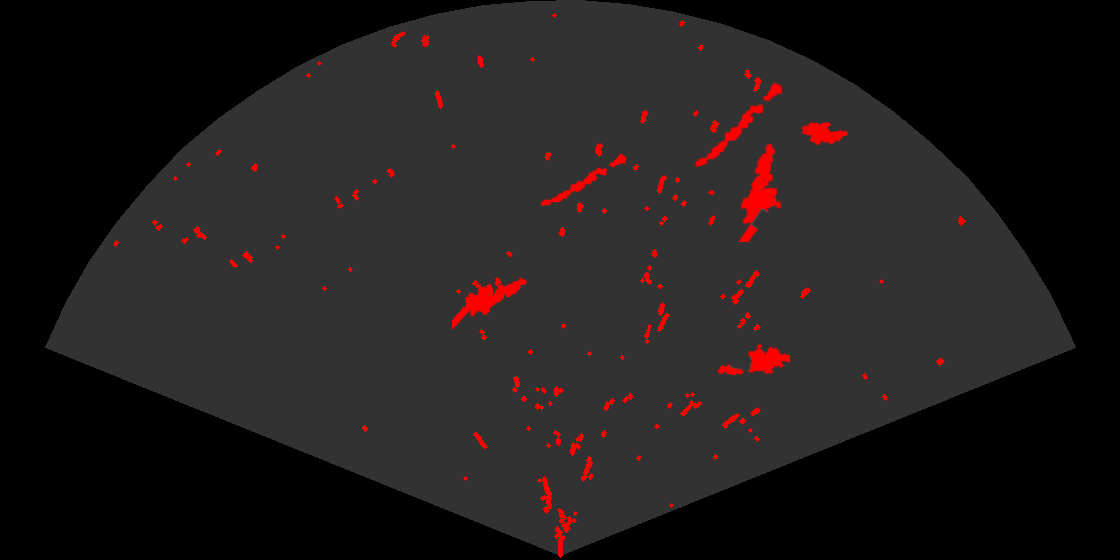AUV: (800, 121, 850, 146)
chain: (693, 81, 784, 169), (539, 152, 628, 208)
frogman: (737, 142, 783, 242), (452, 276, 528, 331), (716, 342, 790, 377)
